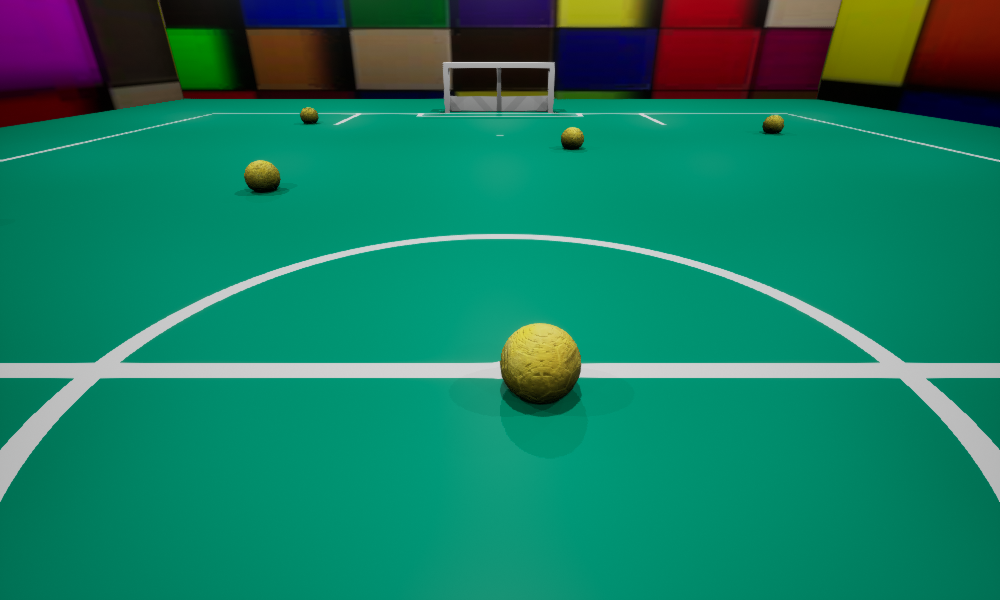b: (500, 323, 580, 402), (244, 160, 280, 191), (561, 127, 583, 149), (762, 115, 783, 133), (300, 107, 318, 123)
g: (443, 62, 554, 112)
